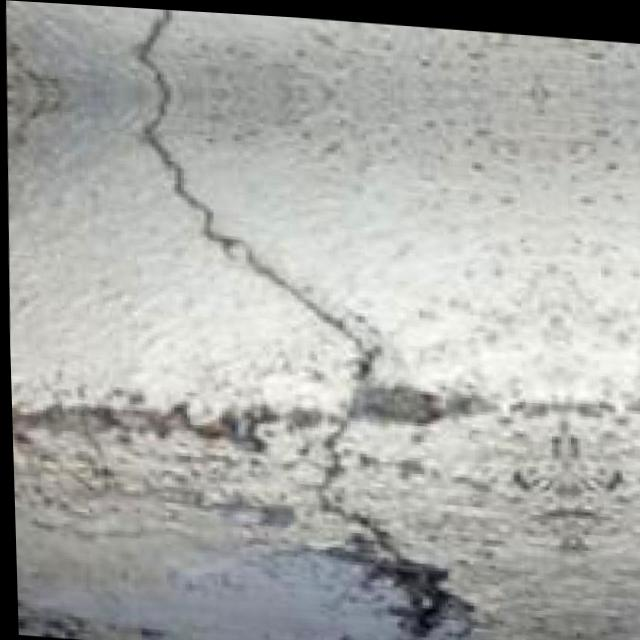Crack: (76, 4, 486, 640)
